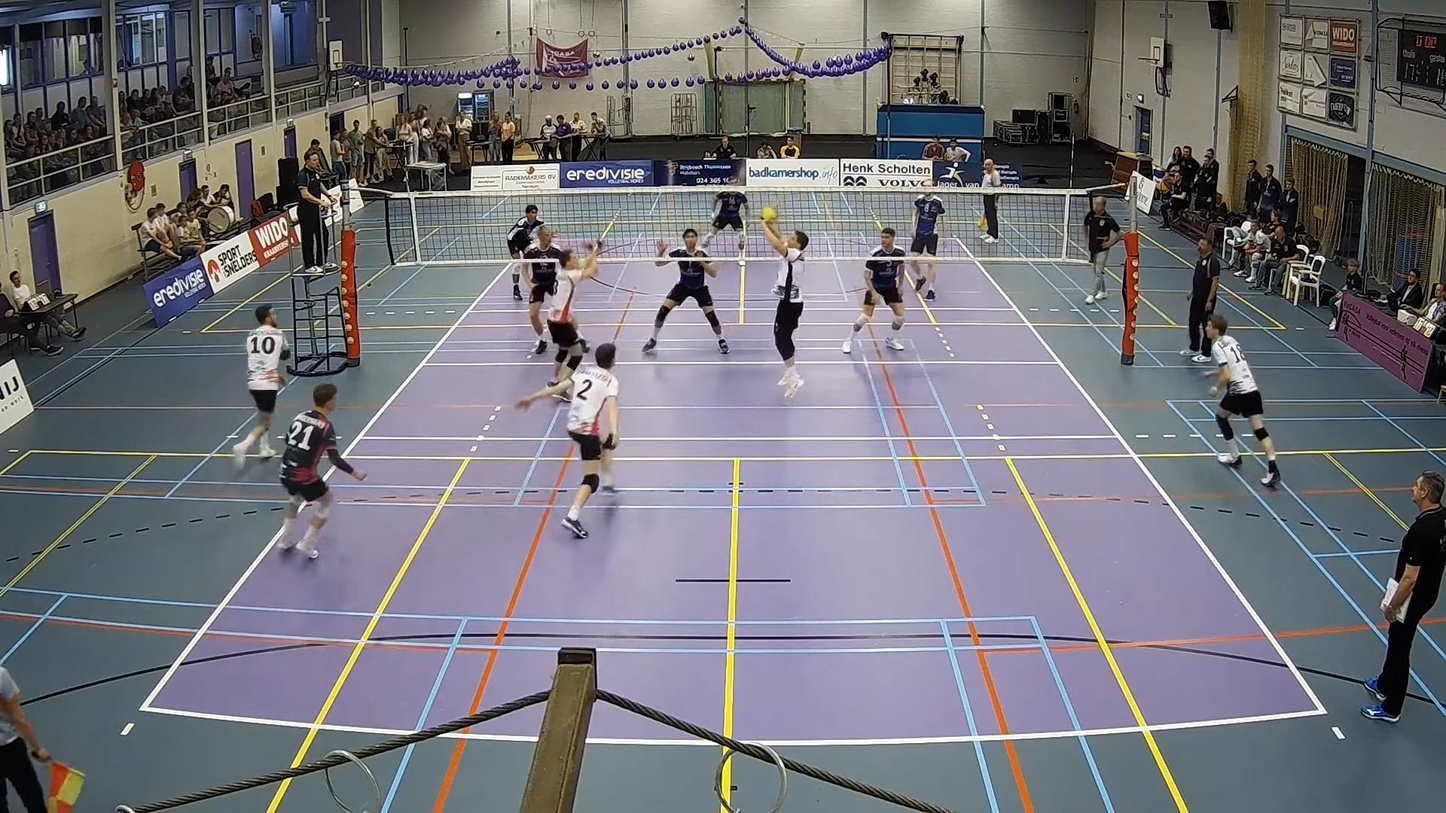Player: (517, 343, 618, 537), (276, 383, 365, 558), (1207, 315, 1280, 486), (642, 228, 728, 354), (233, 305, 289, 468), (841, 227, 905, 353), (547, 243, 599, 387), (520, 226, 565, 354), (909, 184, 945, 299), (506, 204, 544, 300), (702, 190, 747, 251)
Set: (759, 219, 816, 396)
ball: (760, 207, 783, 223)
